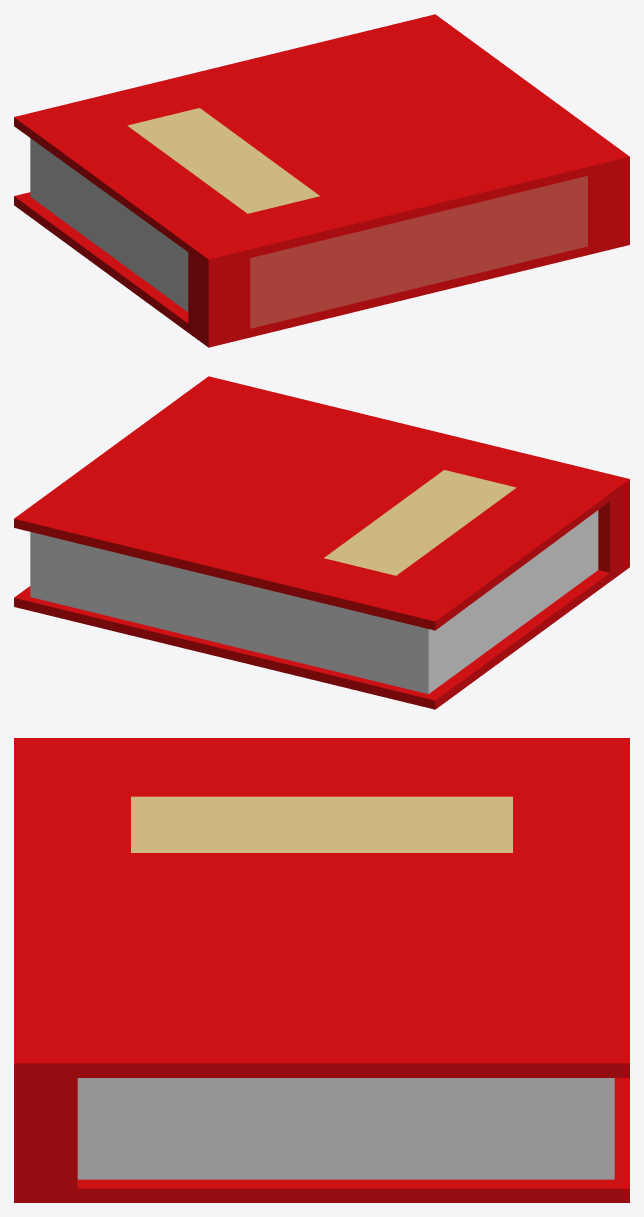
Rendered from book_single.glb.
3 views of the same model, one above another, from view 1: azimuth 30°, elevation 25°; view 2: azimuth 150°, elevation 25°; view 3: azimuth 270°, elevation 25° (orthographic). The views are drawn at different scales.
Parts seen in each view (by area): view 1: BookSingle; view 2: BookSingle; view 3: BookSingle.
Boxes of the visible parts, left/top/right/bottom form: BookSingle: left=14, top=14, right=629, bottom=347; BookSingle: left=14, top=376, right=629, bottom=709; BookSingle: left=14, top=738, right=629, bottom=1202.
Bounding box in the file's own units: 0.25 × 0.05 × 0.2.
